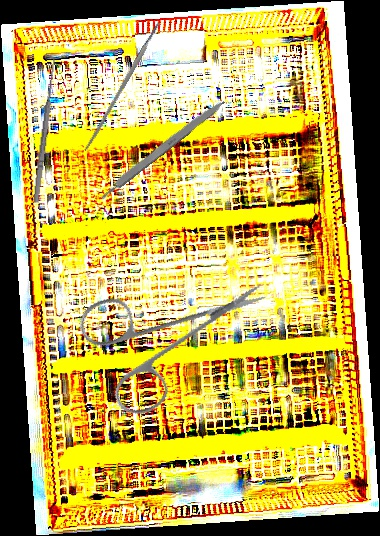Hook Surgical: (26, 53, 59, 205)
Iris Scissors: (56, 232, 269, 444)
Scalpel Handle: (97, 96, 227, 201), (83, 21, 162, 153)
